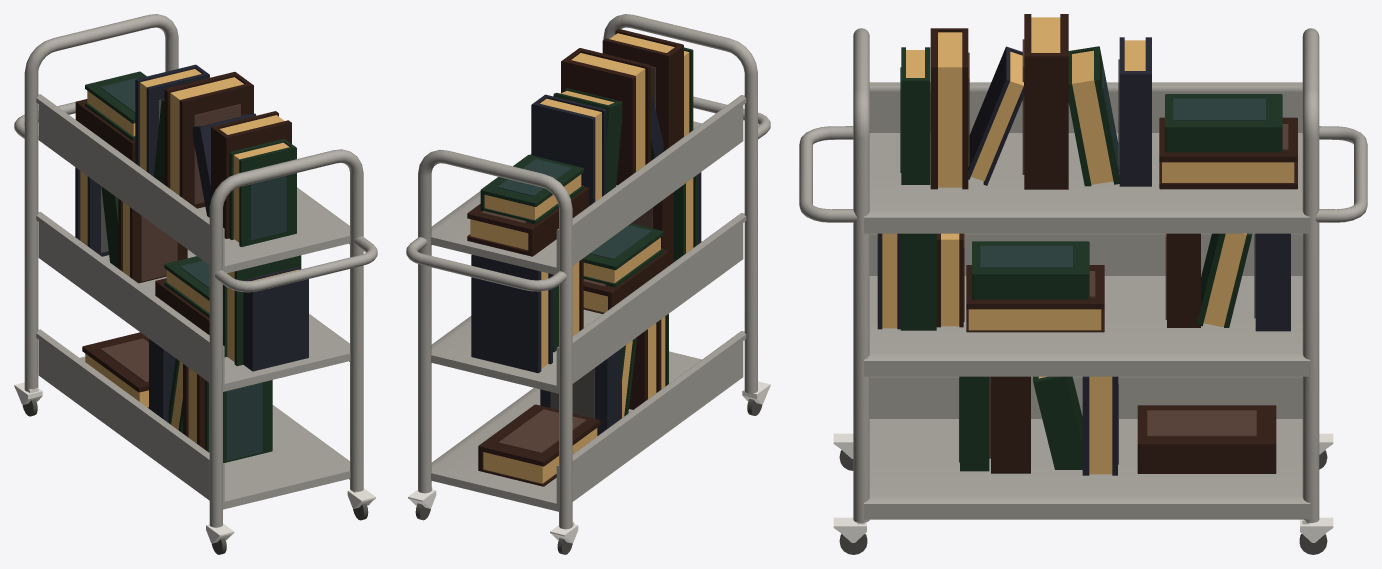
Rendered from library_trolley.fbx.
3 renders of one model, left to right at view 1: azimuth 30°, elevation 25°; view 2: azimuth 150°, elevation 25°; view 3: azimuth 270°, elevation 25°, orthographic. The views are drawn at different scales.
Parts seen in each view (by area): view 1: Cube, Cylinder.001, Cube.009, Cube.004, Cube.024, Cube.028, Cube.020, Cube.003, Cube.011, Cube.027, Cylinder, Cube.012 (+13 smaller); view 2: Cube, Cylinder.001, Cube.018, Cube.009, Cube.027, Cube.011, Cube.003, Cube.012, Cube.013, Cube.017, Cube.026, Cylinder (+12 smaller); view 3: Cube, Cylinder.001, Cube.027, Cube.009, Cube.012, Cube.017, Cube.003, Cube.013, Cube.016, Cube.008, Cube.011, Cylinder (+14 smaller).
Boxes of the visible parts, <box> form: Cube: <box>36,94,350,509</box>; Cylinder.001: <box>24,14,363,527</box>; Cube.009: <box>164,72,253,208</box>; Cube.004: <box>229,138,296,247</box>; Cube.024: <box>243,266,308,371</box>; Cube.028: <box>205,380,272,463</box>; Cube.020: <box>118,199,187,283</box>; Cube.003: <box>211,111,291,238</box>; Cube.011: <box>135,64,209,176</box>; Cube.027: <box>82,332,148,408</box>; Cylinder: <box>14,102,377,292</box>; Cube.012: <box>85,71,146,140</box>; Cube: <box>431,95,746,511</box>; Cylinder.001: <box>418,14,757,529</box>; Cube.018: <box>471,254,552,373</box>; Cube.009: <box>561,48,650,185</box>; Cube.027: <box>478,404,600,486</box>; Cube.011: <box>531,94,606,205</box>; Cube.003: <box>602,29,683,152</box>; Cube.012: <box>480,154,583,224</box>; Cube.013: <box>467,186,589,256</box>; Cube.017: <box>583,223,663,287</box>; Cube.026: <box>540,348,621,435</box>; Cylinder: <box>406,96,770,291</box>; Cube: <box>864,82,1310,519</box>; Cylinder.001: <box>853,28,1319,522</box>; Cube.027: <box>1137,405,1276,473</box>; Cube.009: <box>1022,14,1068,189</box>; Cube.012: <box>1165,94,1282,152</box>; Cube.017: <box>972,241,1089,299</box>; Cube.003: <box>930,28,969,189</box>; Cube.013: <box>1159,117,1297,189</box>; Cube.016: <box>966,265,1104,332</box>; Cube.008: <box>1068,46,1119,186</box>; Cube.011: <box>1118,37,1151,186</box>; Cylinder: <box>799,126,1367,222</box>.
Bounding box in the file's own units: 800 × 1915 × 2070.
